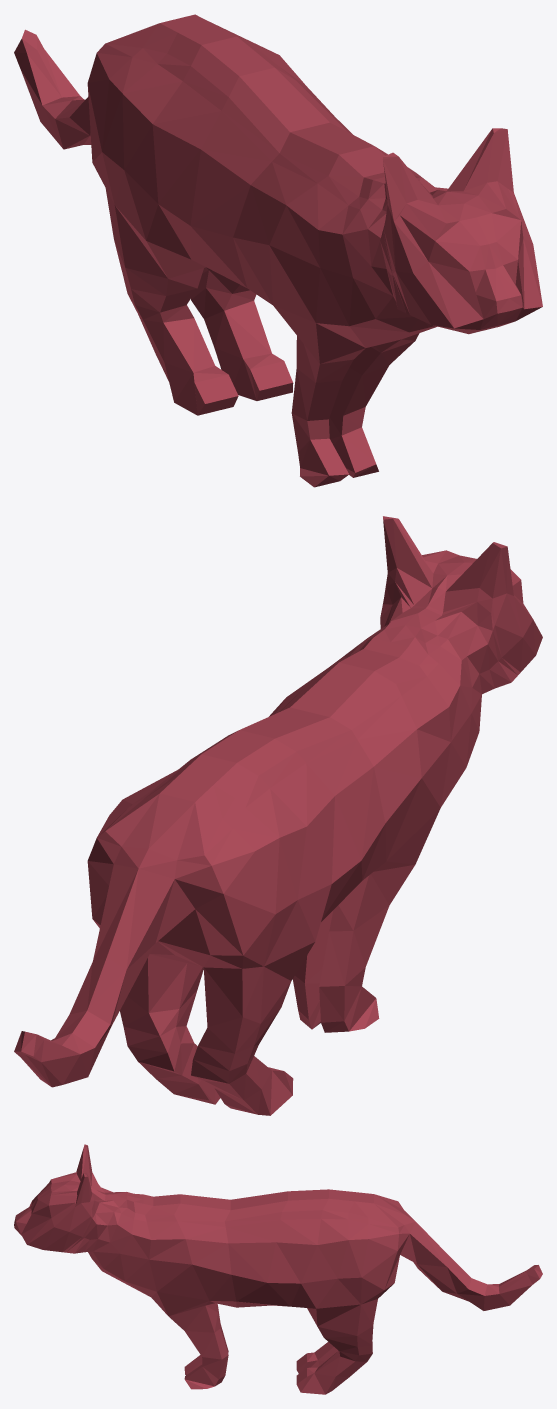
Rendered from kitty.fbx.
3 renders of one model, top to bottom at view 1: azimuth 30°, elevation 25°; view 2: azimuth 150°, elevation 25°; view 3: azimuth 270°, elevation 25°, orthographic. The views are drawn at different scales.
Visible parts, largest first — view 1: Plane; view 2: Plane; view 3: Plane.
Part boxes in pixels (<box>): Plane: <box>14,14,542,487</box>; Plane: <box>14,516,542,1115</box>; Plane: <box>14,1144,542,1394</box>.
Bounding box in the file's own units: 97.87 × 224 × 478.
